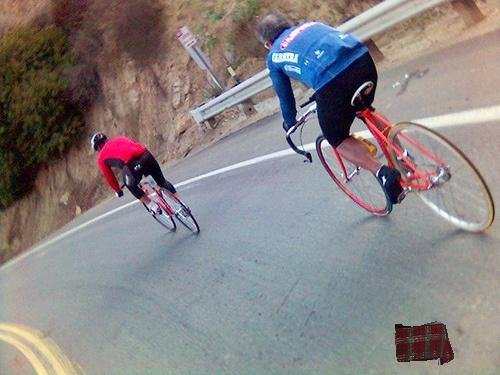tampered: (396, 322, 454, 365)
